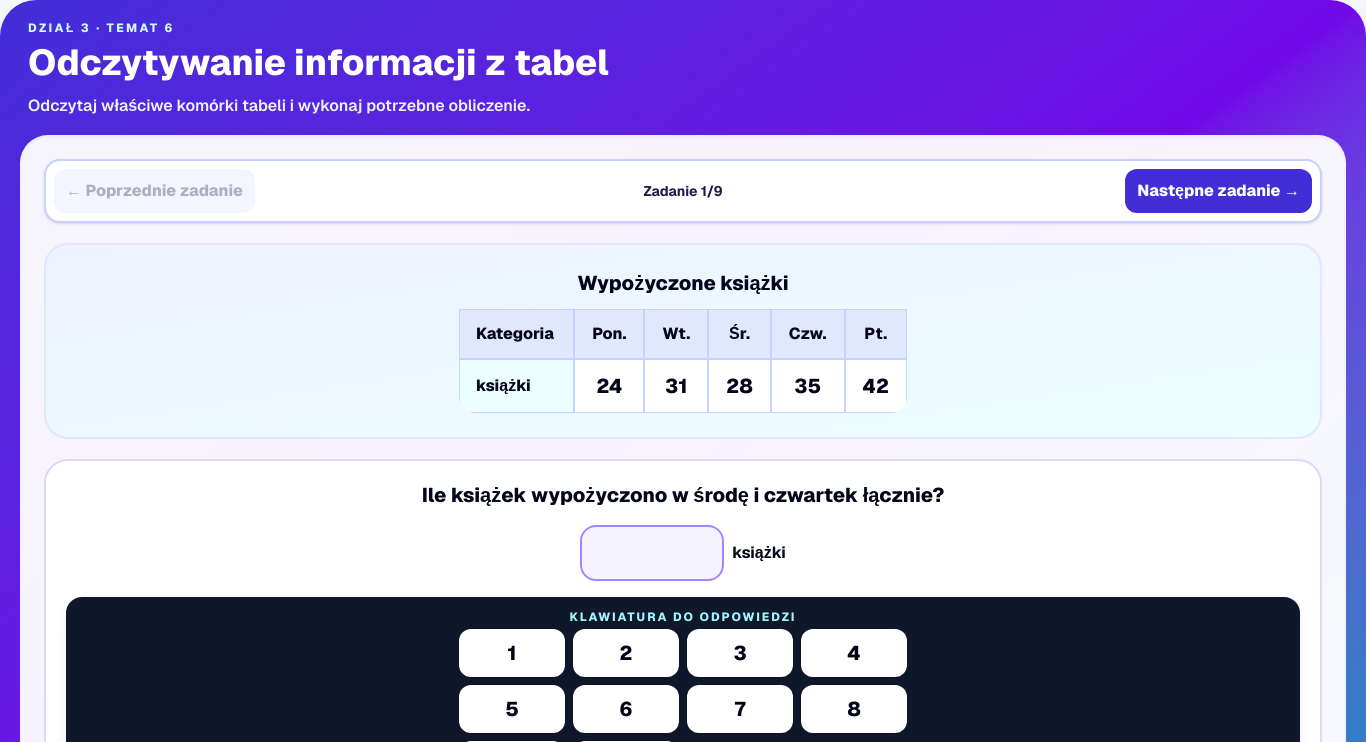
Test: InformationReadingLessonLab › pozwala nauczycielowi przeglądać zadania w trybie interaktywnym
The width and height of the screenshot is (1366, 742).
Expected: the navigation bar is shown, [44,159,1322,223]
Expected: the button "← Poprzednie zadanie" is disabled, [54,169,255,213]
Click the button "Następne zadanie →" at [1219, 191], box [1125,169,1312,213]
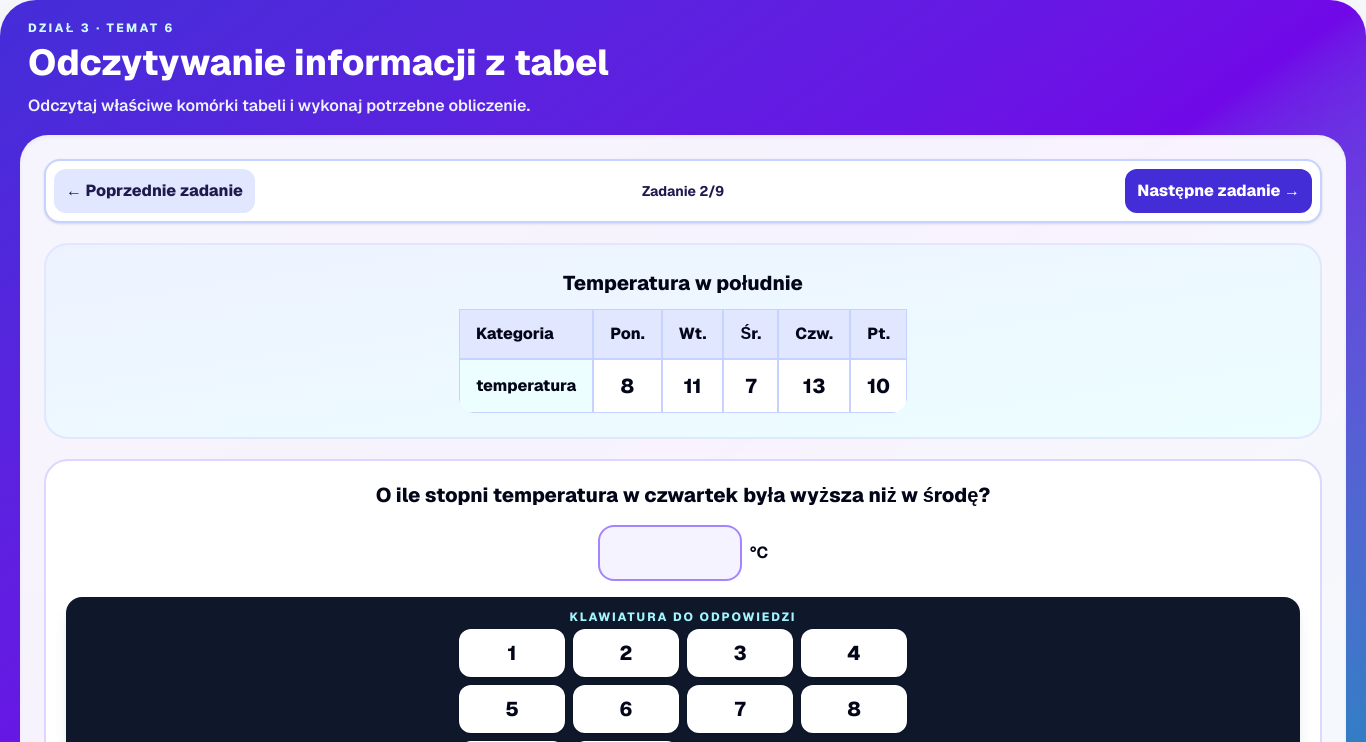
Result: the text "Zadanie 2/9" is shown at [642,181,724,201]
Result: the button "← Poprzednie zadanie" is enabled at [54,169,255,213]
